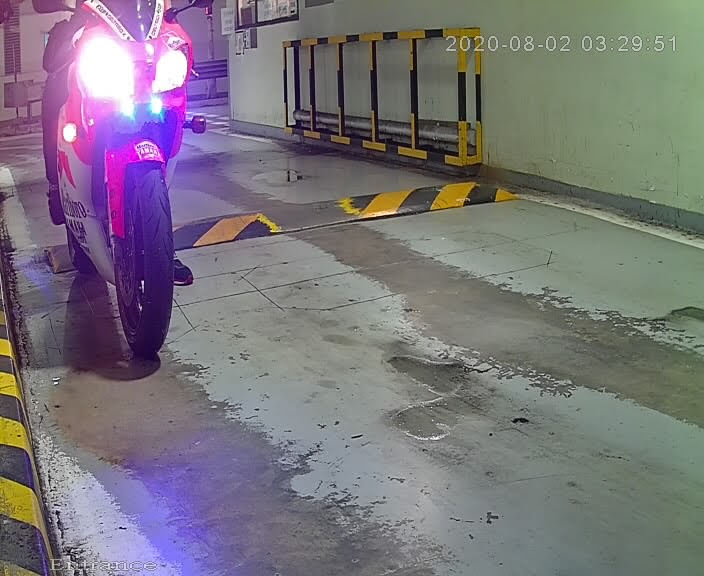motorcycle: (20, 1, 220, 380)
